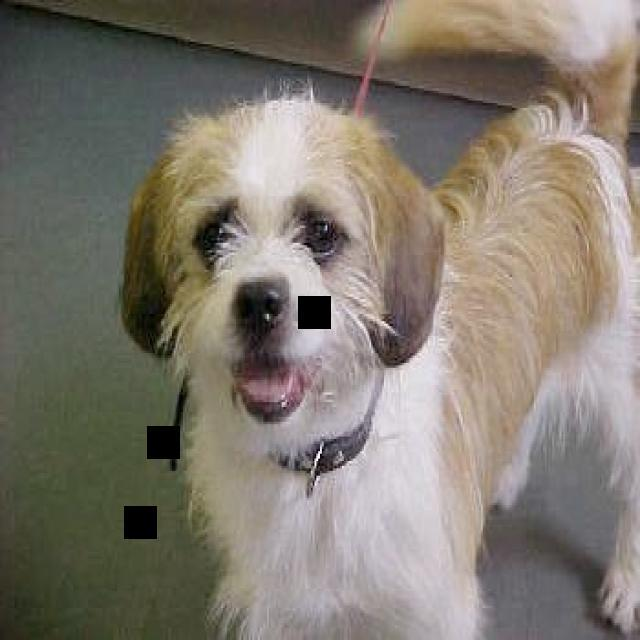adult_dog: (126, 1, 640, 640)
